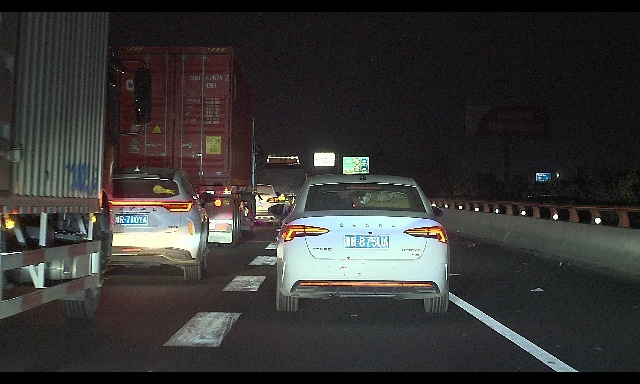car: (268, 174, 450, 313), (78, 166, 216, 281), (237, 184, 285, 227)
truck: (0, 12, 153, 320), (90, 45, 265, 248), (253, 155, 309, 205)
